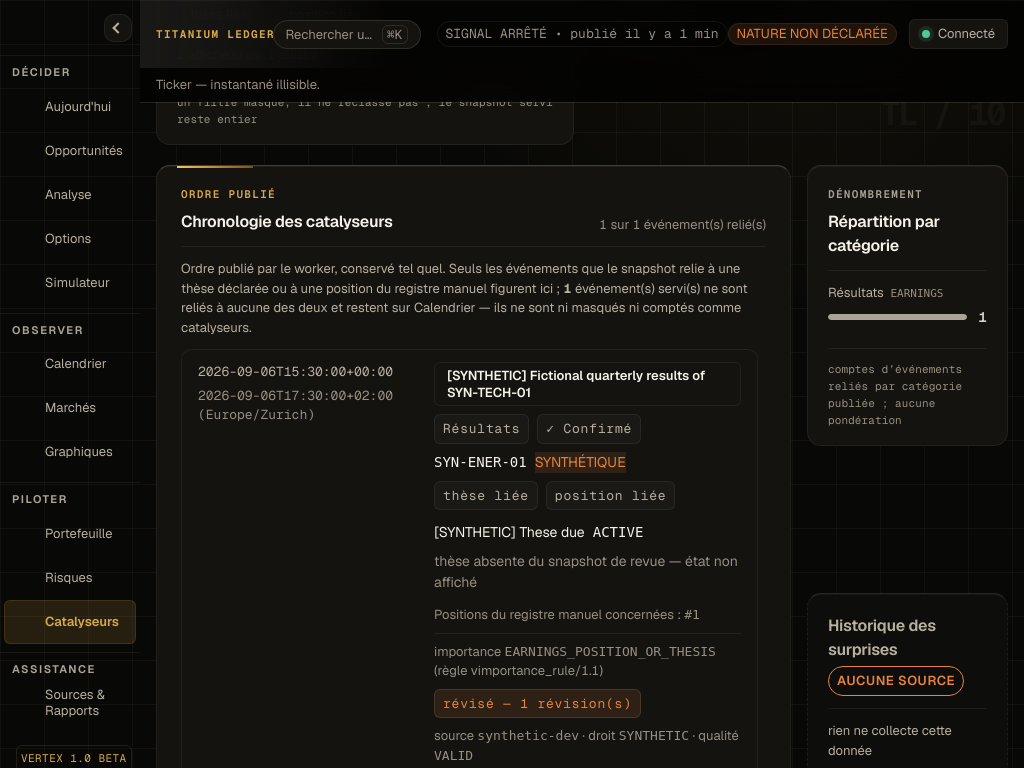
Test case: Catalyseurs — inspecteur contextuel (point 6 de l’anatomie) › ouvrir un catalyseur remplit l’inspecteur avec les cinq champs du contrat §10
(page scrolled)
Click the button "[SYNTHETIC] Fictional quarterly results of SYN-TECH-01" at (588, 384), box [434,362,741,406]
(page scrolled)
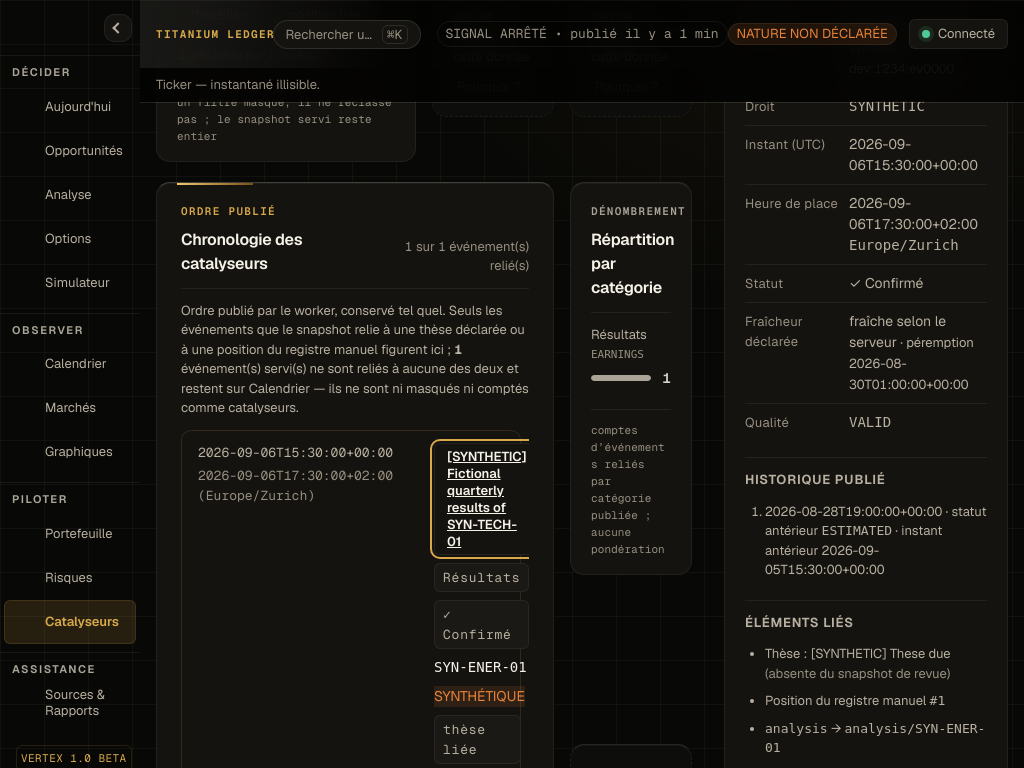
expect the element "Inspecteur" is shown: met, box [724,0,1008,767]
expect the element "Inspecteur" shows "Europe/Zurich": met, box [849,237,959,253]
expect the element "Inspecteur" shows "Historique publié": met, box [745,471,886,488]
